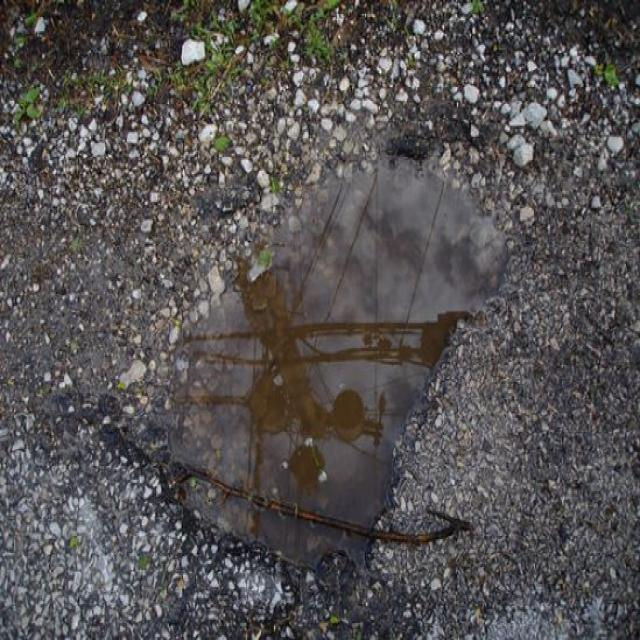pothole: (85, 130, 532, 600)
